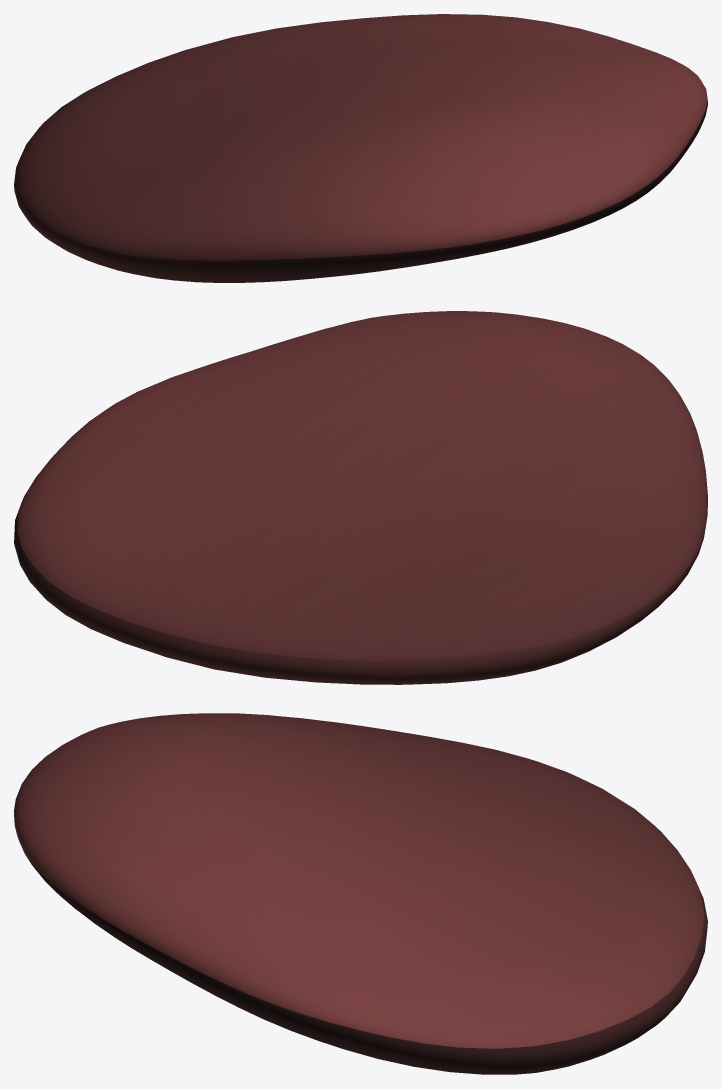
File: common.glb
3 views of the same model, one above another, from view 1: azimuth 30°, elevation 25°; view 2: azimuth 150°, elevation 25°; view 3: azimuth 270°, elevation 25° (orthographic). The views are drawn at different scales.
Visible parts, largest first — view 1: ct_tong; view 2: ct_tong; view 3: ct_tong.
Part boxes in pixels (x1,y1,x2,y2): ct_tong: (14, 14, 707, 282); ct_tong: (14, 311, 707, 684); ct_tong: (14, 713, 707, 1074).
Size of the model in its own units: 0.0882 by 0.028 by 0.0845.
1 material, 1 textured.
